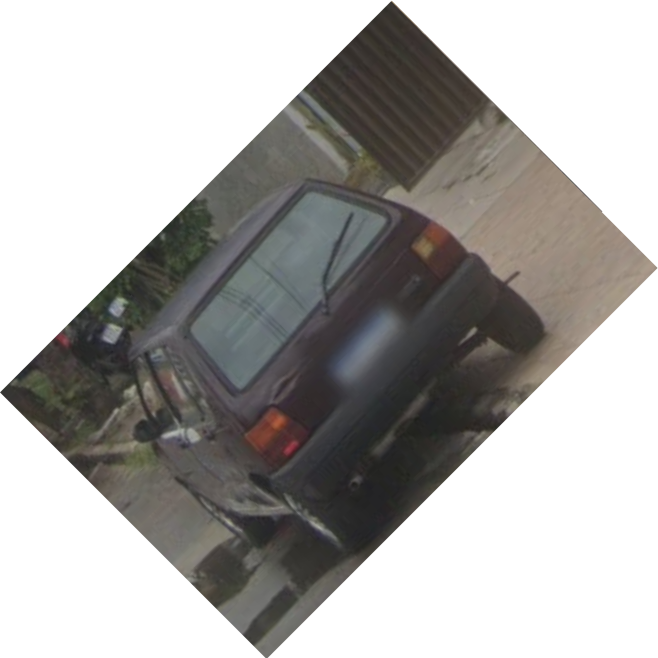car: (120, 177, 547, 563)
